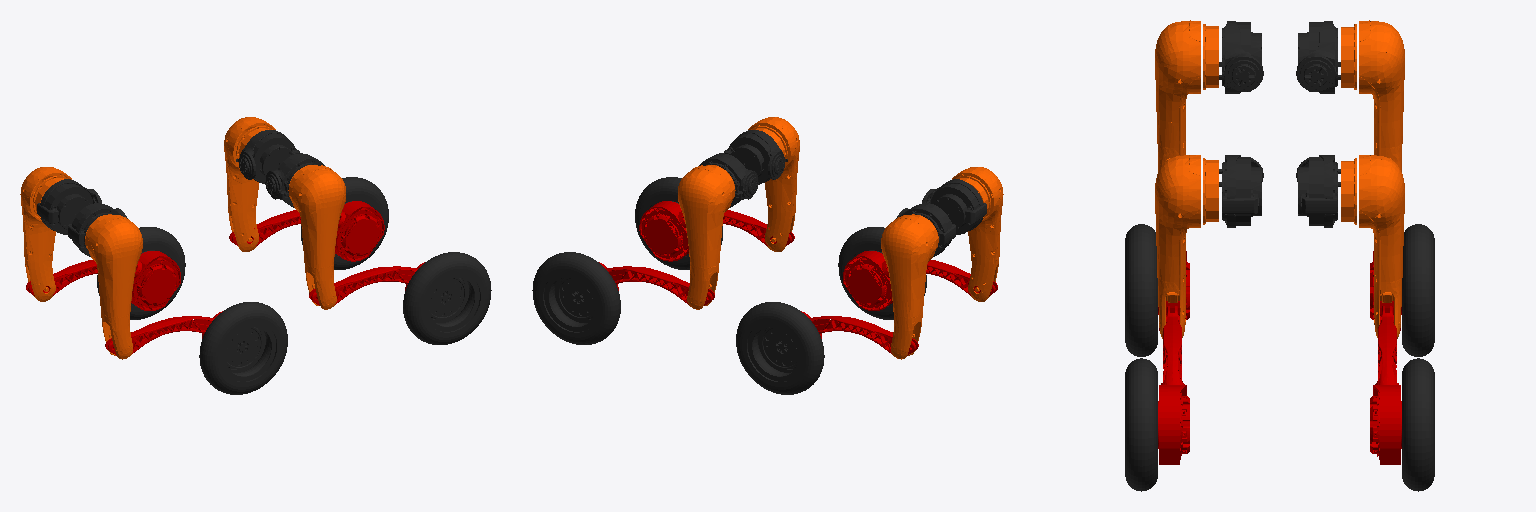
robot.urdf — magicdog:
<?xml version="1.0" ?>
<!-- =================================================================================== -->
<!-- |    This document was autogenerated by xacro from robot_wheel.xacro              | -->
<!-- |    EDITING THIS FILE BY HAND IS NOT RECOMMENDED                                 | -->
<!-- =================================================================================== -->
<robot name="magicdog">
  <material name="black">
    <color rgba="0.0 0.0 0.0 1.0"/>
  </material>
  <material name="blue">
    <color rgba="0.0 0.0 0.8 1.0"/>
  </material>
  <material name="green">
    <color rgba="0.0 0.8 0.0 1.0"/>
  </material>
  <material name="grey">
    <color rgba="0.2 0.2 0.2 1.0"/>
  </material>
  <material name="silver">
    <color rgba="0.9137254901960784 0.9137254901960784 0.8470588235294118 1.0"/>
  </material>
  <material name="orange">
    <color rgba="1.0 0.4235294117647059 0.0392156862745098 1.0"/>
  </material>
  <material name="brown">
    <color rgba="0.8705882352941177 0.8117647058823529 0.7647058823529411 1.0"/>
  </material>
  <material name="red">
    <color rgba="0.8 0.0 0.0 1.0"/>
  </material>
  <material name="white">
    <color rgba="1.0 1.0 1.0 1.0"/>
  </material>
  <link name="base">
    <visual>
      <origin rpy="0 0 0" xyz="0 0 0"/>
      <geometry>
        <mesh filename="../meshes/magicdog_base.stl" scale="1 1 1"/>
        <!-- <box size="0.327 0.194 0.114"/> -->
      </geometry>
      <material name="silver"/>
    </visual>
    <collision>
      <origin rpy="0 0 0" xyz="0 0 0"/>
      <geometry>
        <box size="0.327 0.194 0.114"/>
      </geometry>
    </collision>
    <inertial>
      <origin rpy="0 0 0" xyz="0.030789072 -0.0015929272 0.019370127"/>
      <mass value="8.6470505"/>
      <inertia ixx="0.047071341" ixy="-0.0013391533" ixz="-0.031639906" iyy="0.14560398" iyz="-0.00026207612" izz="0.14388143"/>
    </inertial>
  </link>

  <joint name="head_joint" type="fixed" dont_collapse="true">
    <origin rpy="0.0 0.349 0.0" xyz="0.21518 0.0 0.09654"/>
    <parent link="base"/>
    <child link="head"/>
  </joint>
  <link name="head">
    <inertial>
      <mass value="0.001"/>
      <origin rpy="0 0 0" xyz="0 0 0"/>
      <inertia ixx="0.000001" ixy="0" ixz="0" iyy="0.000001" iyz="0" izz="0.000001"/>
    </inertial>
    <collision>
      <origin rpy="0.0 0.0 0.0" xyz="0.03 0 0.052"/>
      <geometry>
        <box size="0.16 0.1 0.13"/>
      </geometry>
    </collision>
  </link>

  <joint name="FR_hip_joint" type="revolute">
    <origin rpy="0 0 0" xyz="0.220365 -0.04998785 0"/>
    <parent link="base"/>
    <child link="FR_hip"/>
    <axis xyz="1 0 0"/>
    <dynamics damping="0" friction="0"/>
    <limit effort="25" lower="-0.6457718232379019" upper="0.7853981633974483" velocity="22"/>
  </joint>
  <link name="FR_hip">
    <visual>
      <origin rpy="-1.5707963267948966 -1.5707963267948966 0 " xyz="0 0 0"/>
      <geometry>
        <mesh filename="../meshes/magicdog_abad.stl" scale="1 1 1"/>
      </geometry>
      <material name="grey"/>
    </visual>
    <collision>
      <origin rpy="1.5707963267948966 0 0" xyz="0 -0.075 0"/>
      <geometry>
        <cylinder length="0.07" radius="0.05"/>
      </geometry>
    </collision>
    <inertial>
      <origin rpy="0 0 0" xyz="-0.034672887 0.0039130227 0.0"/>
      <mass value="0.35996359"/>
      <inertia ixx="0.00010289238" ixy="-3.0677028e-05" ixz="0" iyy="0.00047667644" iyz="-0.0" izz="0.00046973335"/>
    </inertial>
  </link>
  <joint name="FR_thigh_joint" type="revolute">
    <origin rpy="0 0 0" xyz="0 -0.099 0"/>
    <parent link="FR_hip"/>
    <child link="FR_thigh"/>
    <axis xyz="0 1 0"/>
    <dynamics damping="0" friction="0"/>
    <limit effort="25" lower="-1.2653637076958888" upper="3.6215581978882336" velocity="22"/>
  </joint>
  <link name="FR_thigh">
    <visual>
      <origin rpy="3.141592653589793 -1.5707963267948966 0" xyz="0 0 0"/>
      <geometry>
        <mesh filename="../meshes/magicdog_hip_right.stl" scale="1 1 1"/>
      </geometry>
      <material name="orange"/>
    </visual>
    <collision>
      <origin rpy="0 1.5707963267948966 0" xyz="-0.018 0 -0.11000000000000001"/>
      <geometry>
        <box size="0.1 0.03 0.04"/>
      </geometry>
    </collision>
    <inertial>
      <origin rpy="0 0 0" xyz="-0.0033473586 0.031436598 -0.032009477"/>
      <mass value="1.5725954"/>
      <inertia ixx="0.0089600443" ixy="-0.00020991626" ixz="-0.00051137678" iyy="0.0078167414" iyz="-0.0017655451" izz="0.0028432732"/>
    </inertial>
  </link>
  <joint name="FR_calf_joint" type="revolute">
    <origin rpy="0 0 0" xyz="0 0 -0.2"/>
    <parent link="FR_thigh"/>
    <child link="FR_calf"/>
    <axis xyz="0 1 0"/>
    <dynamics damping="0" friction="0"/>
    <limit effort="37.5" lower="-2.3668409986295105" upper="-0.39461894387591795" velocity="15"/>
  </joint>
  <link name="FR_calf">
    <visual>
      <origin rpy="0 0 0" xyz="0 0 0"/>
      <geometry>
        <mesh filename="../meshes/magicdog_right_knee_wheel.STL" scale="1 1 1"/>
      </geometry>
      <material name="red"/>
    </visual>
    <collision>
      <origin rpy="0 1.5707963267948966 0" xyz="0 0 -0.14625"/>
      <!-- <origin rpy="0 0 0" xyz="0 0 0"/> -->
      <geometry>
        <box size="0.28885 0.025 0.025"/>
        <!-- <box size="0.28885 0.016 0.016"/> -->
        <!-- <mesh filename="../meshes/magicdog_right_knee_wheel.STL" scale="1 1 1"/> -->
      </geometry>
    </collision>
    <inertial>
      <origin rpy="0 0 0" xyz="0.005260 -0.006732 -0.202313"/>
      <mass value="1.018534"/>
      <inertia ixx="0.006748" ixy="-0.000037" ixz="-0.000341" iyy="0.007322" iyz="-0.000283" izz="0.000811"/>
    </inertial>
  </link>
  <joint name="FR_wheel_joint" type="revolute">
    <origin rpy="0 0 0" xyz="0 0 -0.24351"/>
    <parent link="FR_calf"/>
    <child link="FR_wheel"/>
    <axis xyz="0 1 0"/>
    <dynamics damping="0" friction="0"/>
    <limit effort="15" velocity="35"/>
  </joint>
  <link name="FR_wheel">
    <visual>
      <origin rpy="0 0 0" xyz="0 0 0"/>
      <geometry>
        <mesh filename="../meshes/magicdog_right_wheel.STL" scale="1 1 1"/>
      </geometry>
      <material name="grey"/>
    </visual>
    <collision>
      <origin rpy="1.5707963267948966 0 0" xyz="0 -0.045 0"/>
      <geometry>
        <cylinder length="0.030" radius="0.090"/>
      </geometry>
    </collision>
    <inertial>
      <origin rpy="0 0 0" xyz="0 -0.037340 0"/>
      <mass value="0.510931"/>
      <inertia ixx="0.000707" ixy="0" ixz="0" iyy="0.001321" iyz="0" izz="0.000707"/>
    </inertial>
  </link>
  <joint name="FL_hip_joint" type="revolute">
    <origin rpy="0 0 0" xyz="0.220365 0.04998785 0"/>
    <parent link="base"/>
    <child link="FL_hip"/>
    <axis xyz="1 0 0"/>
    <dynamics damping="0" friction="0"/>
    <limit effort="25" lower="-0.7853981633974483" upper="0.6457718232379019" velocity="22"/>
  </joint>
  <link name="FL_hip">
    <visual>
      <origin rpy="1.5707963267948966 1.5707963267948966 0" xyz="0 0 0"/>
      <geometry>
        <mesh filename="../meshes/magicdog_abad.stl" scale="1 1 1"/>
      </geometry>
      <material name="grey"/>
    </visual>
    <collision>
      <origin rpy="1.5707963267948966 0 0" xyz="0 0.075 0"/>
      <geometry>
        <cylinder length="0.07" radius="0.05"/>
      </geometry>
    </collision>
    <inertial>
      <origin rpy="0 0 0" xyz="-0.034672887 -0.0039130227 0.0"/>
      <mass value="0.35996359"/>
      <inertia ixx="0.00010289238" ixy="3.0677028e-05" ixz="0" iyy="0.00047667644" iyz="0.0" izz="0.00046973335"/>
    </inertial>
  </link>
  <joint name="FL_thigh_joint" type="revolute">
    <origin rpy="0 0 0" xyz="0 0.099 0"/>
    <parent link="FL_hip"/>
    <child link="FL_thigh"/>
    <axis xyz="0 1 0"/>
    <dynamics damping="0" friction="0"/>
    <limit effort="25" lower="-1.2653637076958888" upper="3.6215581978882336" velocity="22"/>
  </joint>
  <link name="FL_thigh">
    <visual>
      <origin rpy="3.141592653589793 -1.5707963267948966 0" xyz="0 0 0"/>
      <geometry>
        <mesh filename="../meshes/magicdog_hip.stl" scale="1 1 1"/>
      </geometry>
      <material name="orange"/>
    </visual>
    <collision>
      <origin rpy="0 1.5707963267948966 0" xyz="-0.018 0 -0.11000000000000001"/>
      <geometry>
        <box size="0.1 0.03 0.04"/>
      </geometry>
    </collision>
    <inertial>
      <origin rpy="0 0 0" xyz="-0.0033473586 -0.031436598 -0.032009477"/>
      <mass value="1.5725954"/>
      <inertia ixx="0.0089600443" ixy="0.00020991626" ixz="-0.00051137678" iyy="0.0078167414" iyz="0.0017655451" izz="0.0028432732"/>
    </inertial>
  </link>
  <joint name="FL_calf_joint" type="revolute">
    <origin rpy="0 0 0" xyz="0 0 -0.2"/>
    <parent link="FL_thigh"/>
    <child link="FL_calf"/>
    <axis xyz="0 1 0"/>
    <dynamics damping="0" friction="0"/>
    <limit effort="37.5" lower="-2.3668409986295105" upper="-0.39461894387591795" velocity="15"/>
  </joint>
  <link name="FL_calf">
    <visual>
      <origin rpy="0 0 0" xyz="0 0 0"/>
      <geometry>
        <mesh filename="../meshes/magicdog_left_knee_wheel_.STL" scale="1 1 1"/>
      </geometry>
      <material name="red"/>
    </visual>
    <collision>
      <origin rpy="0 1.5707963267948966 0" xyz="0 0 -0.14625"/>
      <!-- <origin rpy="0 0 0" xyz="0 0 0"/> -->
      <geometry>
        <box size="0.28885 0.025 0.025"/>
        <!-- <mesh filename="../meshes/magicdog_left_knee_wheel_.STL" scale="1 1 1"/> -->
      </geometry>
    </collision>
    <inertial>
      <origin rpy="0 0 0" xyz="0.005351 0.003694 -0.202438"/>
      <mass value="1.018534"/>
      <inertia ixx="0.006799" ixy="0.000019" ixz="-0.000335" iyy="0.007357" iyz="0.000154" izz="0.000844"/>
    </inertial>
  </link>
  <joint name="FL_wheel_joint" type="revolute">
    <origin rpy="0 0 0" xyz="0 0 -0.24351"/>
    <parent link="FL_calf"/>
    <child link="FL_wheel"/>
    <axis xyz="0 1 0"/>
    <dynamics damping="0" friction="0"/>
    <limit effort="15" velocity="35"/>
  </joint>
  <link name="FL_wheel">
    <visual>
      <origin rpy="0 0 0" xyz="0 0 0"/>
      <geometry>
        <mesh filename="../meshes/magicdog_left_wheel.STL" scale="1 1 1"/>
      </geometry>
      <material name="grey"/>
    </visual>
    <collision>
      <origin rpy="1.5707963267948966 0 0" xyz="0 0.045 0"/>
      <geometry>
        <cylinder length="0.030" radius="0.090"/>
      </geometry>
    </collision>
    <inertial>
      <origin rpy="0 0 0" xyz="0 0.037340 0"/>
      <mass value="0.510931"/>
      <inertia ixx="0.000707" ixy="0" ixz="0" iyy="0.001321" iyz="0" izz="0.000707"/>
    </inertial>
  </link>
  <joint name="RR_hip_joint" type="revolute">
    <origin rpy="0 0 0" xyz="-0.220365 -0.04998785 0"/>
    <parent link="base"/>
    <child link="RR_hip"/>
    <axis xyz="1 0 0"/>
    <dynamics damping="0" friction="0"/>
    <limit effort="25" lower="-0.6457718232379019" upper="0.7853981633974483" velocity="22"/>
  </joint>
  <link name="RR_hip">
    <visual>
      <origin rpy="-1.5707963267948966 1.5707963267948966 0" xyz="0 0 0"/>
      <geometry>
        <mesh filename="../meshes/magicdog_abad.stl" scale="1 1 1"/>
      </geometry>
      <material name="grey"/>
    </visual>
    <collision>
      <origin rpy="1.5707963267948966 0 0" xyz="0 -0.075 0"/>
      <geometry>
        <cylinder length="0.07" radius="0.05"/>
      </geometry>
    </collision>
    <inertial>
      <origin rpy="0 0 0" xyz="0.034672887 0.0039130227 0.0"/>
      <mass value="0.35996359"/>
      <inertia ixx="0.00010289238" ixy="3.0677028e-05" ixz="0" iyy="0.00047667644" iyz="-0.0" izz="0.00046973335"/>
    </inertial>
  </link>
  <joint name="RR_thigh_joint" type="revolute">
    <origin rpy="0 0 0" xyz="0 -0.099 0"/>
    <parent link="RR_hip"/>
    <child link="RR_thigh"/>
    <axis xyz="0 1 0"/>
    <dynamics damping="0" friction="0"/>
    <limit effort="25" lower="-1.2653637076958888" upper="3.6215581978882336" velocity="22"/>
  </joint>
  <link name="RR_thigh">
    <visual>
      <origin rpy="3.141592653589793 -1.5707963267948966 0" xyz="0 0 0"/>
      <geometry>
        <mesh filename="../meshes/magicdog_hip_right.stl" scale="1 1 1"/>
      </geometry>
      <material name="orange"/>
    </visual>
    <collision>
      <origin rpy="0 1.5707963267948966 0" xyz="-0.018 0 -0.11000000000000001"/>
      <geometry>
        <box size="0.1 0.03 0.04"/>
      </geometry>
    </collision>
    <inertial>
      <origin rpy="0 0 0" xyz="-0.0033473586 0.031436598 -0.032009477"/>
      <mass value="1.5725954"/>
      <inertia ixx="0.0089600443" ixy="-0.00020991626" ixz="-0.00051137678" iyy="0.0078167414" iyz="-0.0017655451" izz="0.0028432732"/>
    </inertial>
  </link>
  <joint name="RR_calf_joint" type="revolute">
    <origin rpy="0 0 0" xyz="0 0 -0.2"/>
    <parent link="RR_thigh"/>
    <child link="RR_calf"/>
    <axis xyz="0 1 0"/>
    <dynamics damping="0" friction="0"/>
    <limit effort="37.5" lower="-2.3668409986295105" upper="-0.39461894387591795" velocity="15"/>
  </joint>
  <link name="RR_calf">
    <visual>
      <origin rpy="0 0 0" xyz="0 0 0"/>
      <geometry>
        <mesh filename="../meshes/magicdog_right_knee_wheel.STL" scale="1 1 1"/>
      </geometry>
      <material name="red"/>
    </visual>
    <collision>
      <origin rpy="0 1.5707963267948966 0" xyz="0 0 -0.14625"/>
      <!-- <origin rpy="0 0 0" xyz="0 0 0"/> -->
      <geometry>
        <box size="0.28885 0.025 0.025"/>
        <!-- <mesh filename="../meshes/magicdog_right_knee_wheel.STL" scale="1 1 1"/> -->
      </geometry>
    </collision>
    <inertial>
      <origin rpy="0 0 0" xyz="0.005260 -0.006732 -0.202313"/>
      <mass value="1.018534"/>
      <inertia ixx="0.006748" ixy="-0.000037" ixz="-0.000341" iyy="0.007322" iyz="-0.000283" izz="0.000811"/>
    </inertial>
  </link>
  <joint name="RR_wheel_joint" type="revolute">
    <origin rpy="0 0 0" xyz="0 0 -0.24351"/>
    <parent link="RR_calf"/>
    <child link="RR_wheel"/>
    <axis xyz="0 1 0"/>
    <dynamics damping="0" friction="0"/>
    <limit effort="15" velocity="35"/>
  </joint>
  <link name="RR_wheel">
    <visual>
      <origin rpy="0 0 0" xyz="0 0 0"/>
      <geometry>
        <mesh filename="../meshes/magicdog_right_wheel.STL" scale="1 1 1"/>
      </geometry>
      <material name="grey"/>
    </visual>
    <collision>
      <origin rpy="1.5707963267948966 0 0" xyz="0 -0.045 0"/>
      <geometry>
        <cylinder length="0.030" radius="0.090"/>
      </geometry>
    </collision>
    <inertial>
      <origin rpy="0 0 0" xyz="0 -0.037340 0"/>
      <mass value="0.510931"/>
      <inertia ixx="0.000707" ixy="0" ixz="0" iyy="0.001321" iyz="0" izz="0.000707"/>
    </inertial>
  </link>
  <joint name="RL_hip_joint" type="revolute">
    <origin rpy="0 0 0" xyz="-0.220365 0.04998785 0"/>
    <parent link="base"/>
    <child link="RL_hip"/>
    <axis xyz="1 0 0"/>
    <dynamics damping="0" friction="0"/>
    <limit effort="25" lower="-0.7853981633974483" upper="0.6457718232379019" velocity="22"/>
  </joint>
  <link name="RL_hip">
    <visual>
      <origin rpy="1.5707963267948966 -1.5707963267948966 0" xyz="0 0 0"/>
      <geometry>
        <mesh filename="../meshes/magicdog_abad.stl" scale="1 1 1"/>
      </geometry>
      <material name="grey"/>
    </visual>
    <collision>
      <origin rpy="1.5707963267948966 0 0" xyz="0 0.075 0"/>
      <geometry>
        <cylinder length="0.07" radius="0.05"/>
      </geometry>
    </collision>
    <inertial>
      <origin rpy="0 0 0" xyz="0.034672887 -0.0039130227 0.0"/>
      <mass value="0.35996359"/>
      <inertia ixx="0.00010289238" ixy="-3.0677028e-05" ixz="0" iyy="0.00047667644" iyz="0.0" izz="0.00046973335"/>
    </inertial>
  </link>
  <joint name="RL_thigh_joint" type="revolute">
    <origin rpy="0 0 0" xyz="0 0.099 0"/>
    <parent link="RL_hip"/>
    <child link="RL_thigh"/>
    <axis xyz="0 1 0"/>
    <dynamics damping="0" friction="0"/>
    <limit effort="25" lower="-1.2653637076958888" upper="3.6215581978882336" velocity="22"/>
  </joint>
  <link name="RL_thigh">
    <visual>
      <origin rpy="3.141592653589793 -1.5707963267948966 0" xyz="0 0 0"/>
      <geometry>
        <mesh filename="../meshes/magicdog_hip.stl" scale="1 1 1"/>
      </geometry>
      <material name="orange"/>
    </visual>
    <collision>
      <origin rpy="0 1.5707963267948966 0" xyz="-0.018 0 -0.11000000000000001"/>
      <geometry>
        <box size="0.1 0.03 0.04"/>
      </geometry>
    </collision>
    <inertial>
      <origin rpy="0 0 0" xyz="-0.0033473586 -0.031436598 -0.032009477"/>
      <mass value="1.5725954"/>
      <inertia ixx="0.0089600443" ixy="0.00020991626" ixz="-0.00051137678" iyy="0.0078167414" iyz="0.0017655451" izz="0.0028432732"/>
    </inertial>
  </link>
  <joint name="RL_calf_joint" type="revolute">
    <origin rpy="0 0 0" xyz="0 0 -0.2"/>
    <parent link="RL_thigh"/>
    <child link="RL_calf"/>
    <axis xyz="0 1 0"/>
    <dynamics damping="0" friction="0"/>
    <limit effort="37.5" lower="-2.3668409986295105" upper="-0.39461894387591795" velocity="15"/>
  </joint>
  <link name="RL_calf">
    <visual>
      <origin rpy="0 0 0" xyz="0 0 0"/>
      <geometry>
        <mesh filename="../meshes/magicdog_left_knee_wheel_.STL" scale="1 1 1"/>
      </geometry>
      <material name="red"/>
    </visual>
    <collision>
      <origin rpy="0 1.5707963267948966 0" xyz="0 0 -0.14625"/>
      <!-- <origin rpy="0 0 0" xyz="0 0 0"/> -->
      <geometry>
        <box size="0.28885 0.025 0.025"/>
        <!-- <mesh filename="../meshes/magicdog_left_knee_wheel_.STL" scale="1 1 1"/> -->
      </geometry>
    </collision>
    <inertial>
      <origin rpy="0 0 0" xyz="0.005351 0.003694 -0.202438"/>
      <mass value="1.018534"/>
      <inertia ixx="0.006799" ixy="0.000019" ixz="-0.000335" iyy="0.007357" iyz="0.000154" izz="0.000844"/>
    </inertial>
  </link>
  <joint name="RL_wheel_joint" type="revolute">
    <origin rpy="0 0 0" xyz="0 0 -0.24351"/>
    <parent link="RL_calf"/>
    <child link="RL_wheel"/>
    <axis xyz="0 1 0"/>
    <dynamics damping="0" friction="0"/>
    <limit effort="15" velocity="35"/>
  </joint>
  <link name="RL_wheel">
    <visual>
      <origin rpy="0 0 0" xyz="0 0 0"/>
      <geometry>
        <mesh filename="../meshes/magicdog_left_wheel.STL" scale="1 1 1"/>
      </geometry>
      <material name="grey"/>
    </visual>
    <collision>
      <origin rpy="1.5707963267948966 0 0" xyz="0 0.045 0"/>
      <geometry>
        <cylinder length="0.030" radius="0.090"/>
      </geometry>
    </collision>
    <inertial>
      <origin rpy="0 0 0" xyz="0 0.037340 0"/>
      <mass value="0.510931"/>
      <inertia ixx="0.000707" ixy="0" ixz="0" iyy="0.001321" iyz="0" izz="0.000707"/>
    </inertial>
  </link>
</robot>

--- Render facts (derived) ---
Views: 3 orthographic renders of the robot side by side, from view 1: azimuth 30°, elevation 25°; view 2: azimuth 150°, elevation 25°; view 3: azimuth 270°, elevation 25°.
Robot: magicdog — 18 links, 17 joints (16 revolute, 1 fixed); root link base; default pose: joints at zero except 4 at the middle of their limits (FR_calf_joint = -1.38, FL_calf_joint = -1.38, RR_calf_joint = -1.38, RL_calf_joint = -1.38).
Visible links, largest first — view 1: RR_wheel, FR_wheel, FR_thigh, RR_thigh, RL_thigh, FL_thigh, FL_calf, RL_calf, RL_hip, FL_hip, RL_wheel, FL_wheel (+4 smaller); view 2: RL_wheel, FL_wheel, FL_thigh, RL_thigh, RR_thigh, FR_thigh, FR_calf, RR_calf, RR_hip, FR_hip, RR_wheel, FR_wheel (+4 smaller); view 3: FR_thigh, FL_thigh, RR_thigh, RL_thigh, FR_wheel, FL_wheel, RR_wheel, RL_wheel, FL_calf, FR_calf, RR_hip, RL_hip (+2 smaller).
Link boxes in pixels (x1=…): RR_wheel: x1=199, y1=302, x2=287, y2=394; FR_wheel: x1=403, y1=252, x2=491, y2=344; FR_thigh: x1=288, y1=165, x2=345, y2=309; RR_thigh: x1=85, y1=214, x2=142, y2=359; RL_thigh: x1=20, y1=167, x2=71, y2=301; FL_thigh: x1=224, y1=117, x2=275, y2=251; FL_calf: x1=229, y1=201, x2=384, y2=261; RL_calf: x1=26, y1=251, x2=180, y2=310; RL_hip: x1=37, y1=179, x2=101, y2=234; FL_hip: x1=236, y1=130, x2=299, y2=184; RL_wheel: x1=97, y1=227, x2=185, y2=319; FL_wheel: x1=301, y1=177, x2=388, y2=269; RL_wheel: x1=736, y1=302, x2=824, y2=394; FL_wheel: x1=532, y1=252, x2=620, y2=344; FL_thigh: x1=678, y1=165, x2=735, y2=309; RL_thigh: x1=881, y1=214, x2=938, y2=359; RR_thigh: x1=952, y1=167, x2=1003, y2=301; FR_thigh: x1=748, y1=117, x2=799, y2=251; FR_calf: x1=639, y1=201, x2=794, y2=261; RR_calf: x1=843, y1=251, x2=997, y2=310; RR_hip: x1=922, y1=179, x2=986, y2=234; FR_hip: x1=724, y1=130, x2=787, y2=184; RR_wheel: x1=838, y1=227, x2=926, y2=319; FR_wheel: x1=635, y1=177, x2=722, y2=269; FR_thigh: x1=1155, y1=155, x2=1218, y2=338; FL_thigh: x1=1341, y1=155, x2=1404, y2=338; RR_thigh: x1=1155, y1=20, x2=1218, y2=171; RL_thigh: x1=1341, y1=20, x2=1404, y2=171; FR_wheel: x1=1125, y1=358, x2=1157, y2=491; FL_wheel: x1=1402, y1=358, x2=1434, y2=491; RR_wheel: x1=1125, y1=224, x2=1157, y2=356; RL_wheel: x1=1402, y1=224, x2=1434, y2=356; FL_calf: x1=1370, y1=306, x2=1401, y2=464; FR_calf: x1=1158, y1=306, x2=1189, y2=464; RR_hip: x1=1219, y1=21, x2=1263, y2=93; RL_hip: x1=1296, y1=21, x2=1340, y2=93.
Bounding box of the posed robot: 0.8249 × 0.4296 × 0.3894 m (x, y, z).
16 mesh visuals loaded from 8 distinct referenced files (7 binary STL); not drawn: 1 (reference not matched to a file when rendering).
